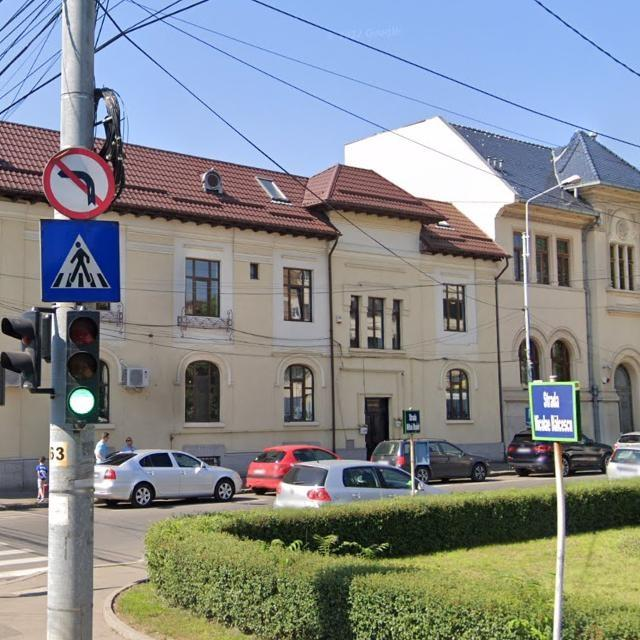info_crosswalk: (42, 217, 120, 304)
